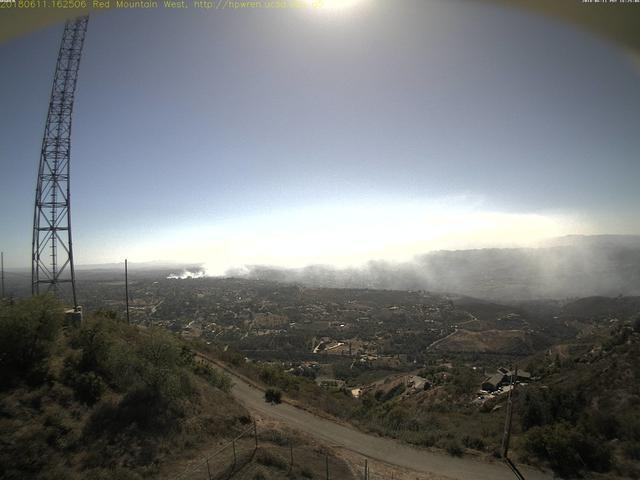smoke: (168, 219, 543, 305)
